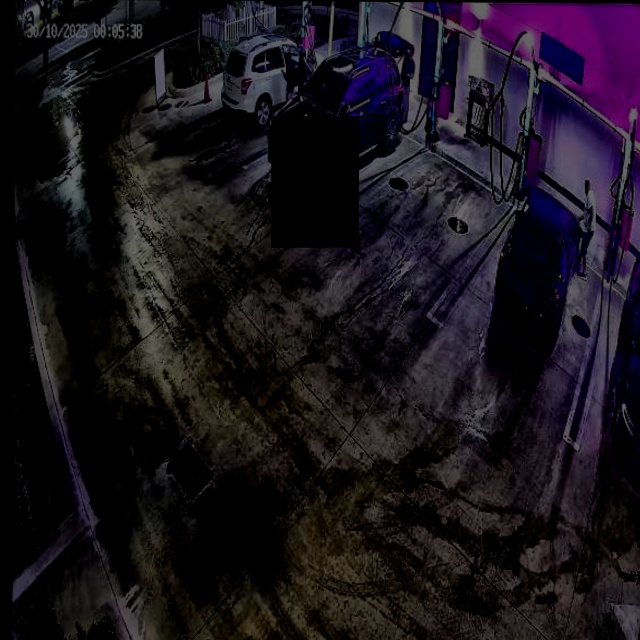Car: (268, 33, 408, 192), (494, 188, 577, 347)
